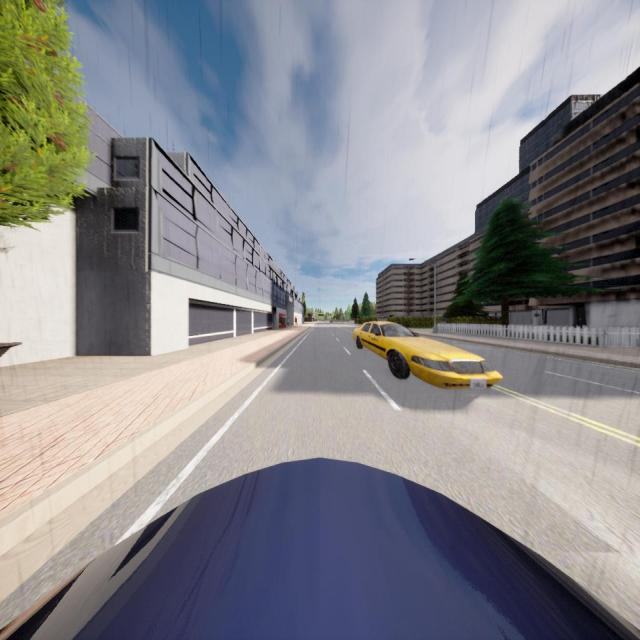Vehicle: (0, 459, 640, 640), (353, 320, 501, 388), (329, 320, 333, 324)
